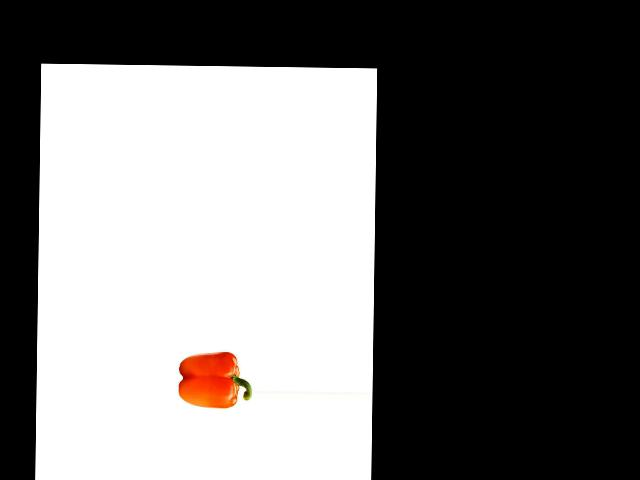bell_pepper: (177, 345, 252, 415)
